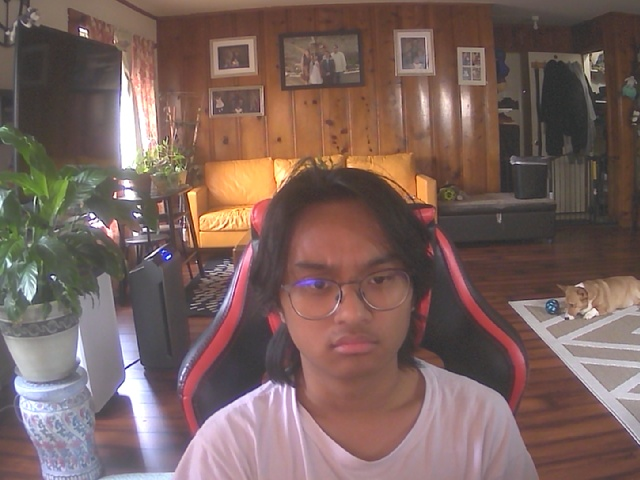anger: (272, 180, 427, 381)
